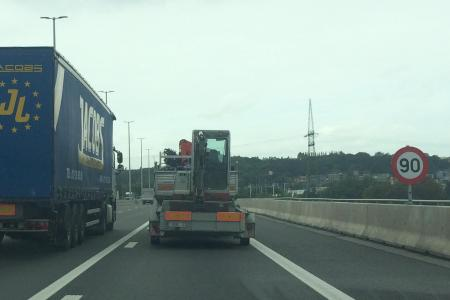Speed_limit_90km: (391, 147, 429, 184)
